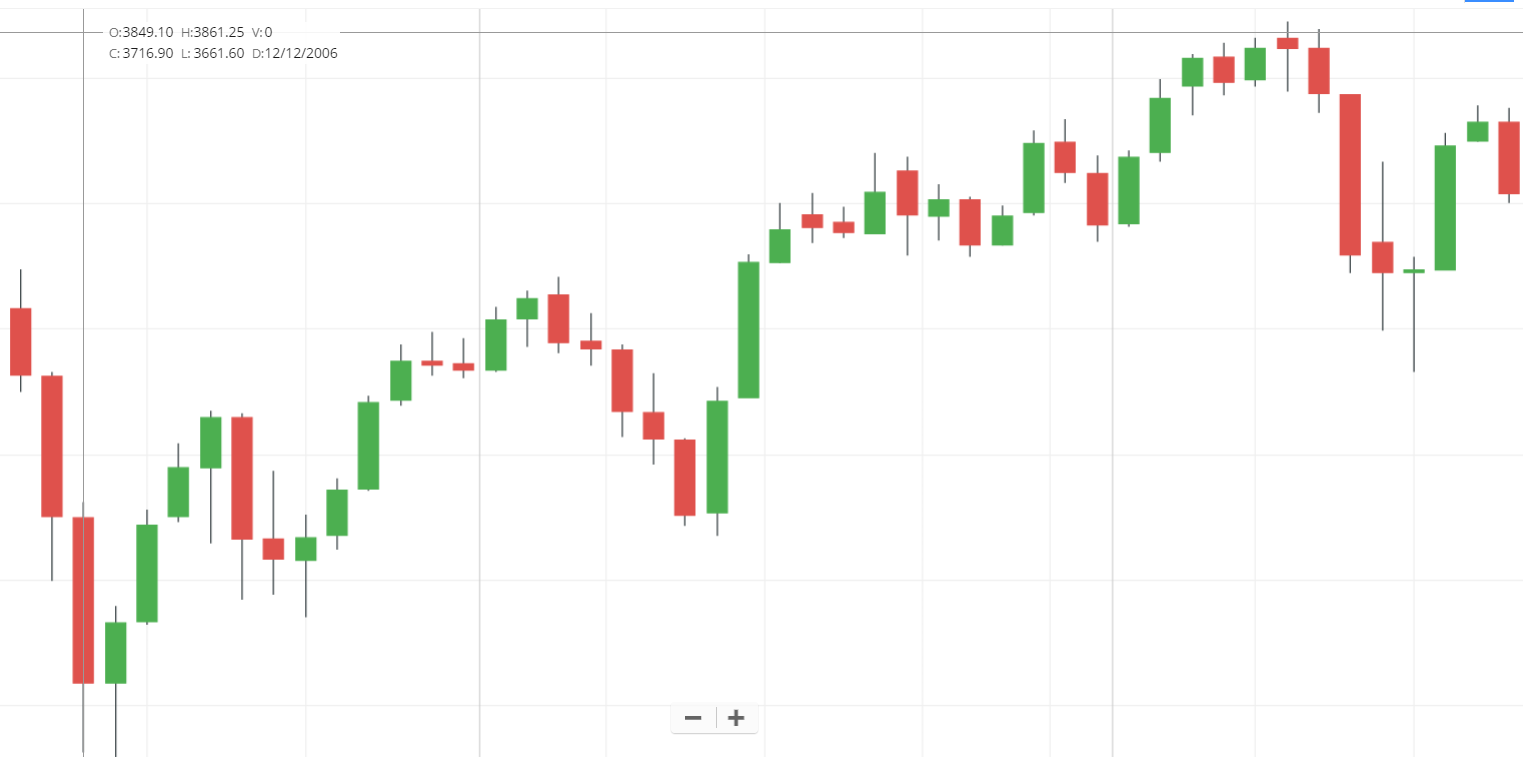doji: (1400, 240, 1432, 377), (1273, 17, 1306, 102), (447, 323, 478, 387), (420, 319, 444, 380)
